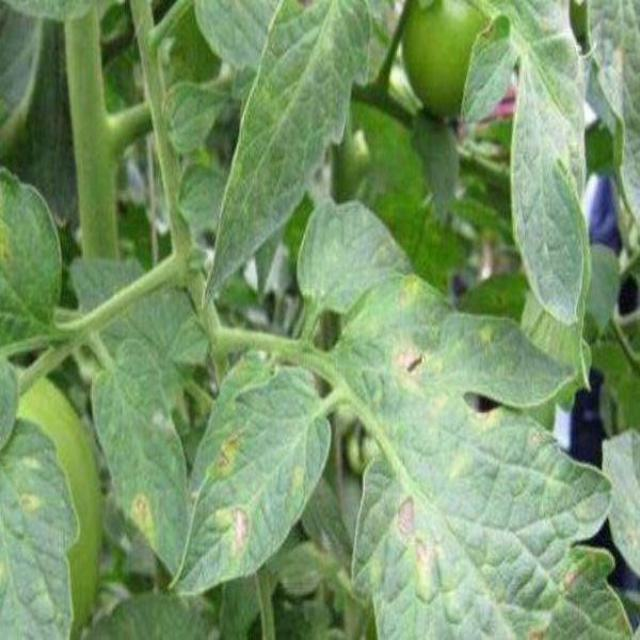Leaf_Mold: (390, 489, 439, 566), (209, 421, 249, 483), (385, 336, 430, 387), (123, 491, 161, 550), (222, 499, 254, 566)
